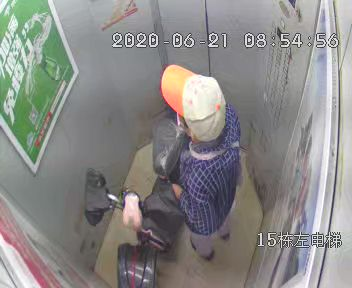Electric-bicycle: (87, 116, 187, 288)
